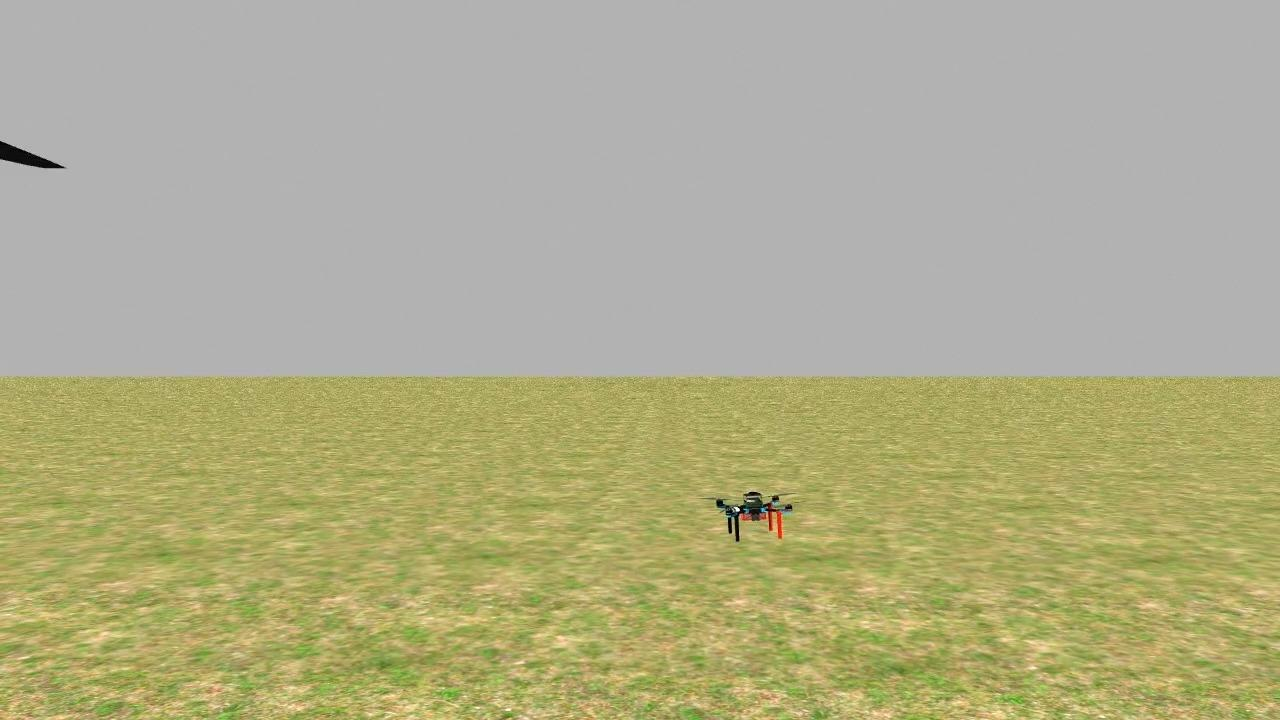UAV: (706, 482, 806, 557)
